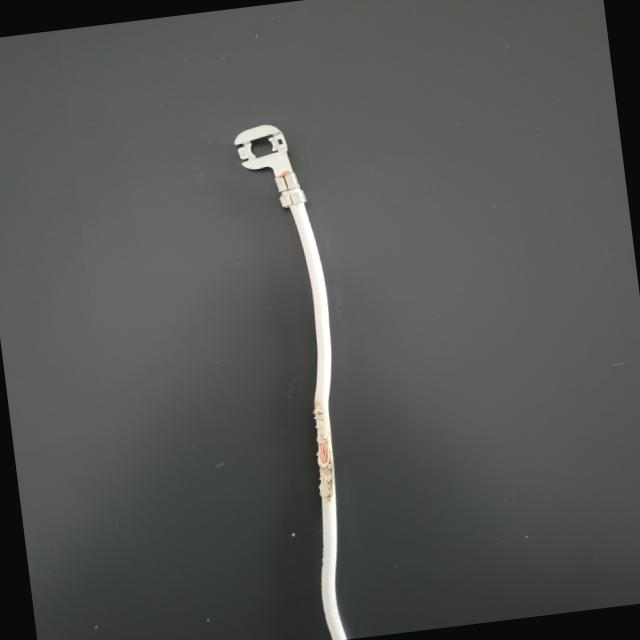defect: (289, 389, 380, 526)
